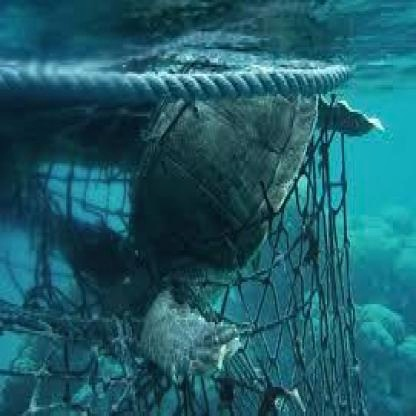net: (2, 60, 359, 416)
